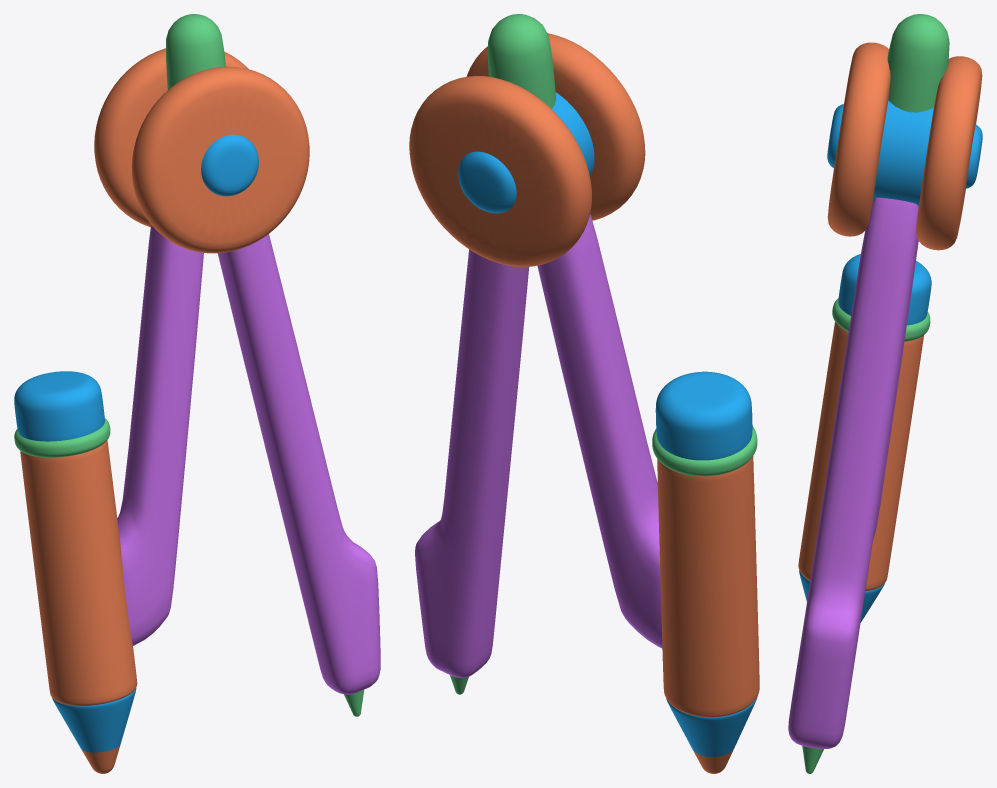
Rendered from 27. Pencil Compass.glb.
3 renders of one model, left to right at view 1: azimuth 30°, elevation 25°; view 2: azimuth 150°, elevation 25°; view 3: azimuth 270°, elevation 25°, orthographic. The views are drawn at different scales.
Visible parts, largest first — view 1: Pencil Compass, Pointer, Cylinder.005, Pencil.001, Cylinder.004, Pencil, Cylinder.001, Cylinder.002, Cylinder.003; view 2: Pencil Compass, Pointer, Pencil.001, Cylinder.005, Cylinder.004, Cylinder.001, Cylinder.002, Pencil, Cylinder.003; view 3: Pointer, Pencil Compass, Cylinder.005, Cylinder.002, Cylinder.001, Cylinder.004, Cylinder.003, Pencil.001, Pencil, Cylinder.
Part boxes in pixels (x1,y1,x2,y2): Pencil Compass: (94, 48, 309, 253); Pointer: (217, 234, 380, 694); Cylinder.005: (20, 440, 137, 705); Pencil.001: (117, 224, 203, 645); Cylinder.004: (14, 371, 104, 441); Pencil: (52, 688, 136, 773); Cylinder.001: (166, 14, 225, 89); Cylinder.002: (201, 134, 258, 196); Cylinder.003: (14, 418, 110, 457); Pencil Compass: (409, 33, 645, 266); Pointer: (415, 249, 529, 678); Pencil.001: (537, 214, 662, 648); Cylinder.005: (657, 456, 759, 717); Cylinder.004: (655, 371, 752, 460); Cylinder.001: (488, 14, 556, 108); Cylinder.002: (458, 92, 594, 213); Pencil: (666, 696, 757, 773); Cylinder.003: (652, 426, 757, 476); Pointer: (788, 197, 918, 749); Pencil Compass: (827, 42, 982, 250); Cylinder.005: (798, 322, 923, 590); Cylinder.002: (827, 100, 982, 205); Cylinder.001: (887, 14, 949, 112); Cylinder.004: (838, 254, 931, 325); Cylinder.003: (832, 298, 930, 341); Pencil.001: (873, 239, 918, 538); Pencil: (799, 570, 884, 622); Cylinder: (802, 746, 823, 773).
Bounding box in the file's own units: 0.147 × 0.298 × 0.0742.
